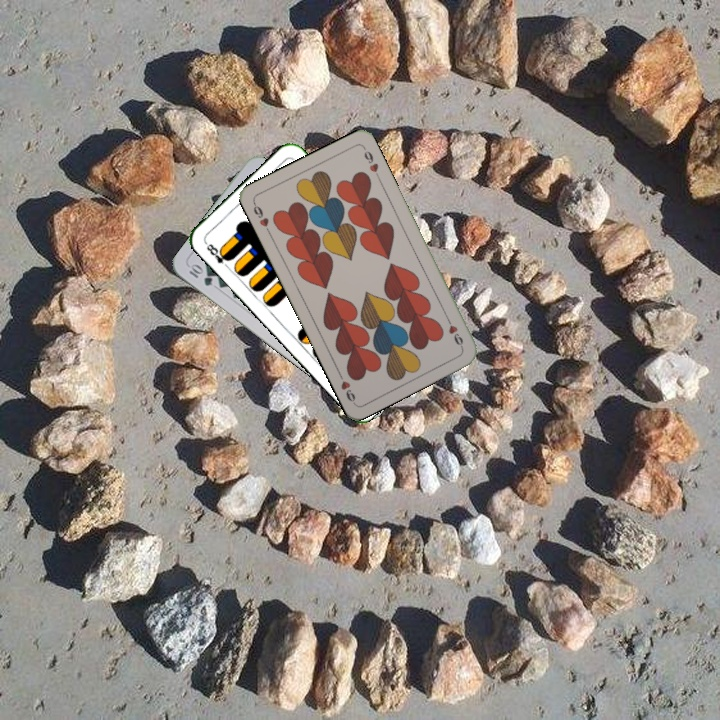E8: (202, 240, 234, 271)
G10: (184, 260, 215, 289)
H9: (249, 198, 273, 236), (442, 313, 466, 351)
